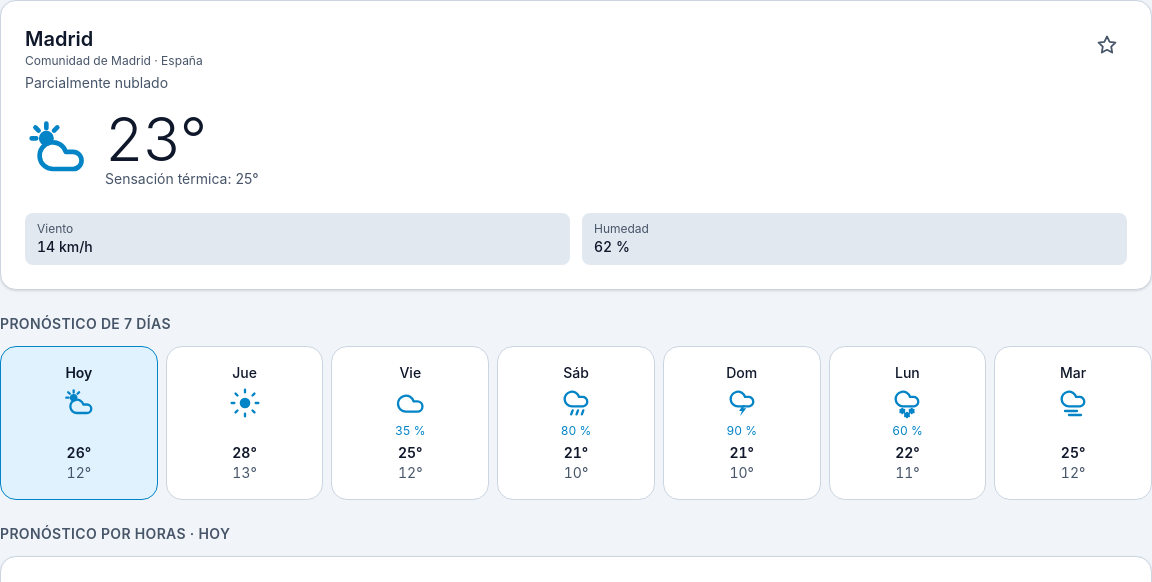
Scenario: WeatherPanel › updates aria-pressed and the hourly heading when another day is clicked
What coordinates should you click on to do the following:
click the button "jue 28° 13°"
I would click on:
 (245, 423)
Its box is [166,346,323,500].
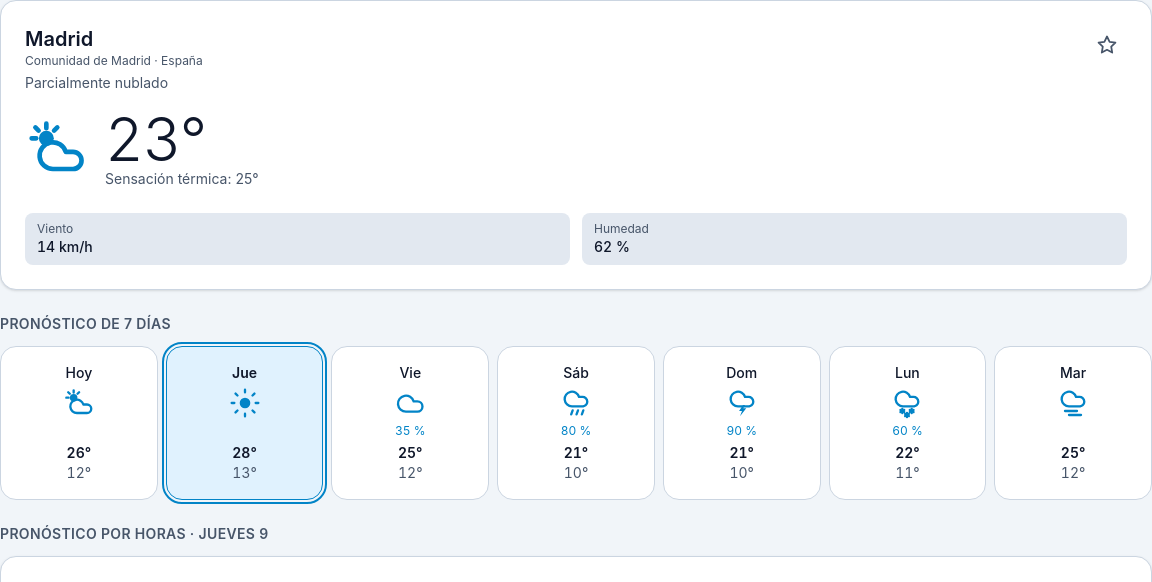
Result: the heading "Pronóstico por horas · jueves 9" is shown at [0,525,268,542]
